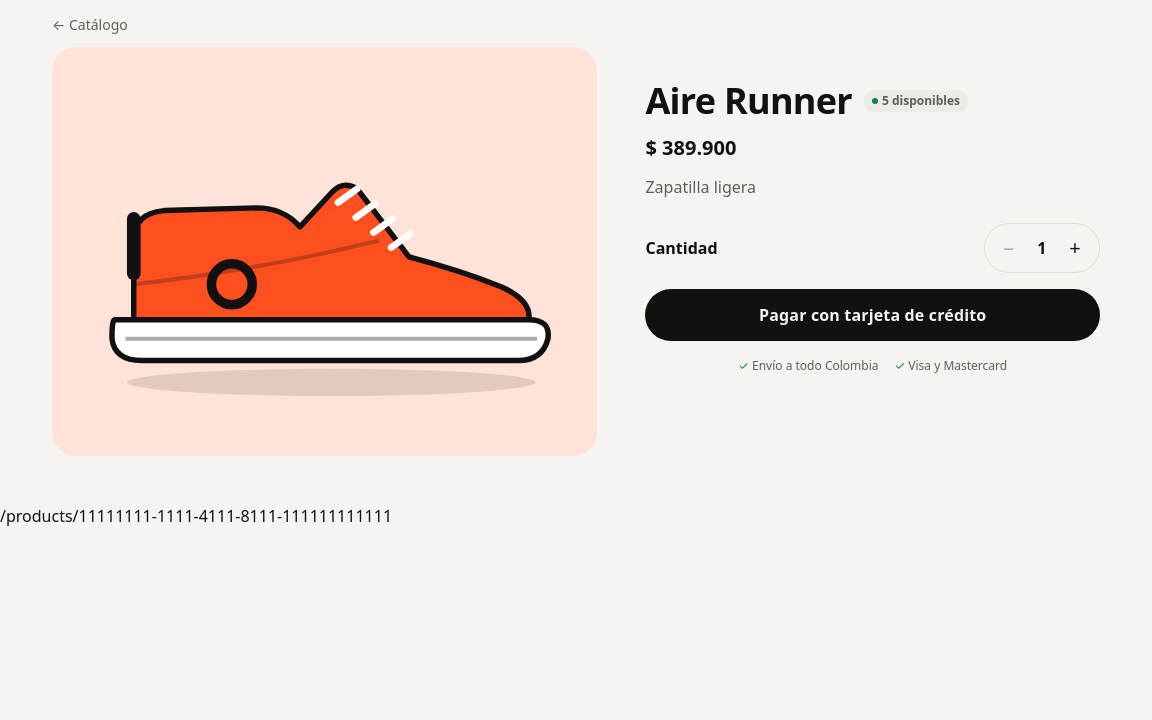
ProductPage › muestra el detalle, limita la cantidad al máximo y abre el modal de pago
Expected: the heading "Aire Runner" is shown, [646,80,852,121]
Click the button named "Aumentar cantidad": (1075, 248) [1051,224,1099,272]
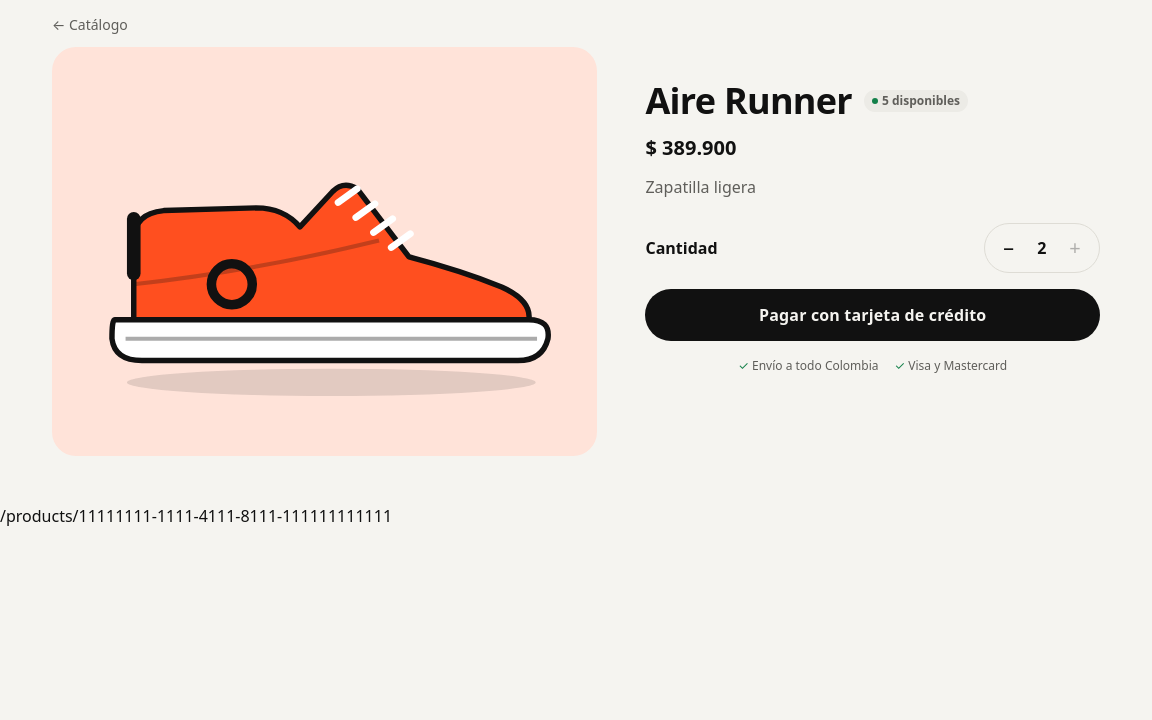
Expected: the text named "Cantidad seleccionada" reads "2", [1037,237,1046,259]
Click the button named "Disminuir cantidad": (1009, 248) [985,224,1033,272]
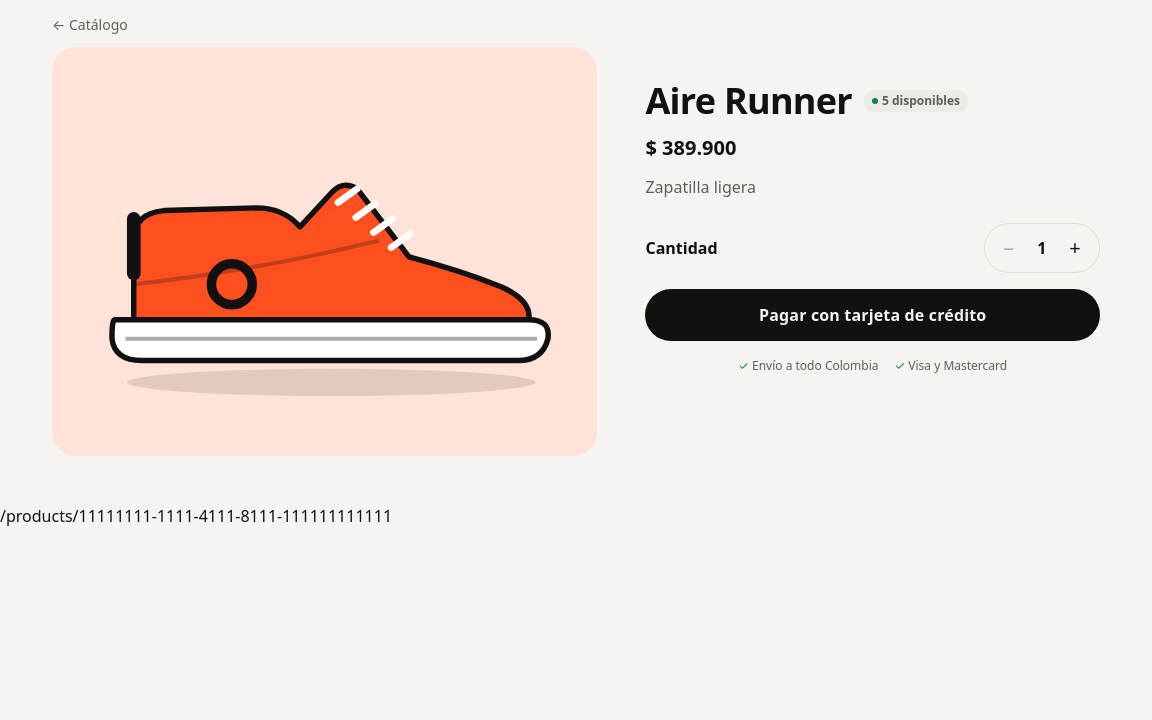
Click the button "+": (1075, 248) [1051,224,1099,272]
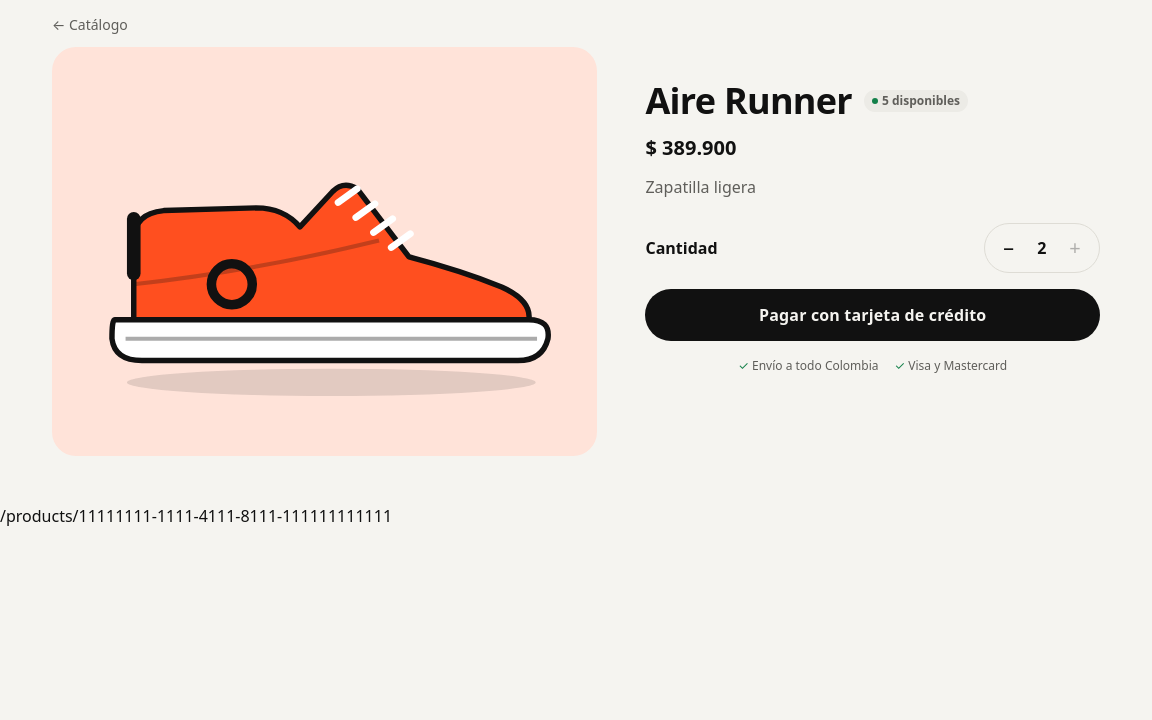
Click the button "Pagar con tarjeta de crédito": (873, 315) [646,289,1100,341]
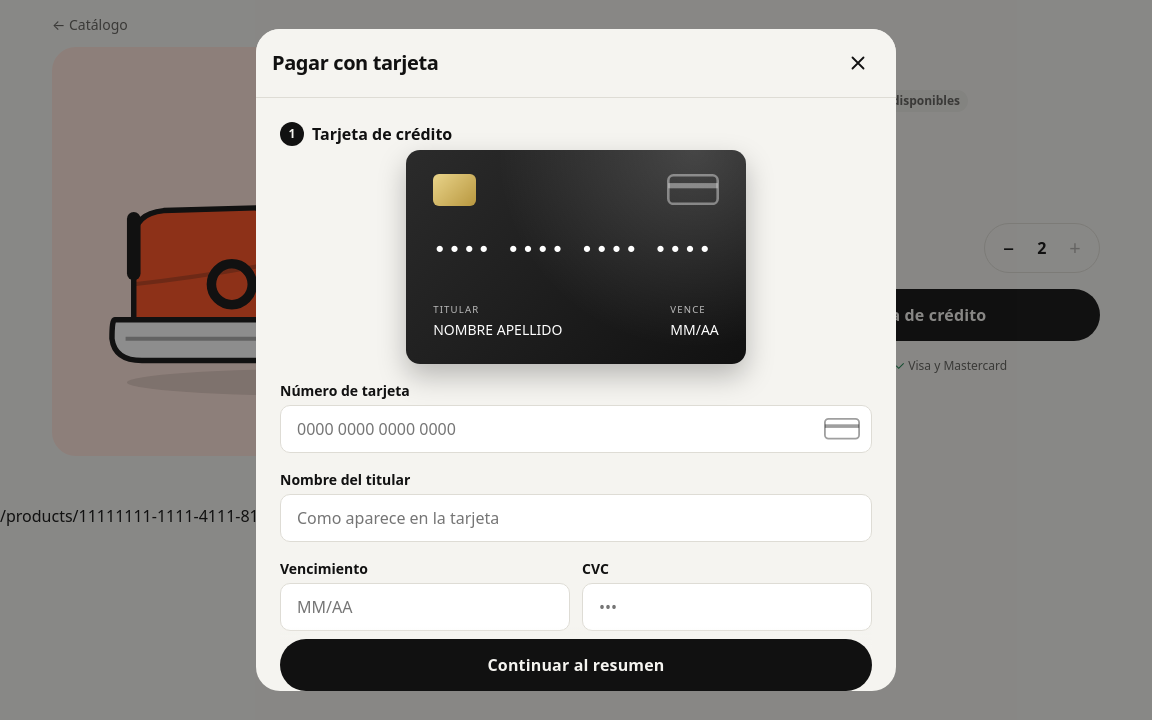
Expected: the dialog "Pagar con tarjeta" is shown, [256,29,896,691]
